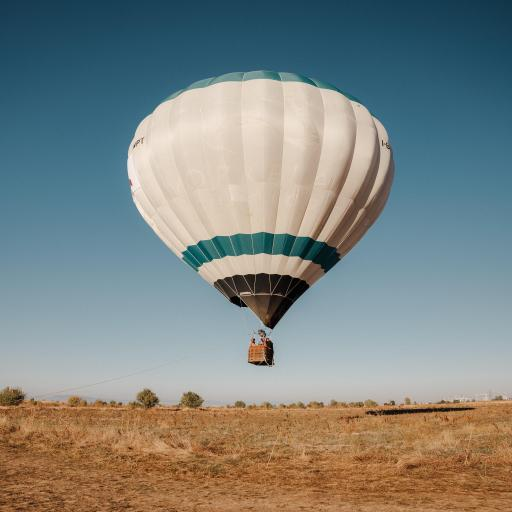hot air ballon: (126, 71, 397, 369)
